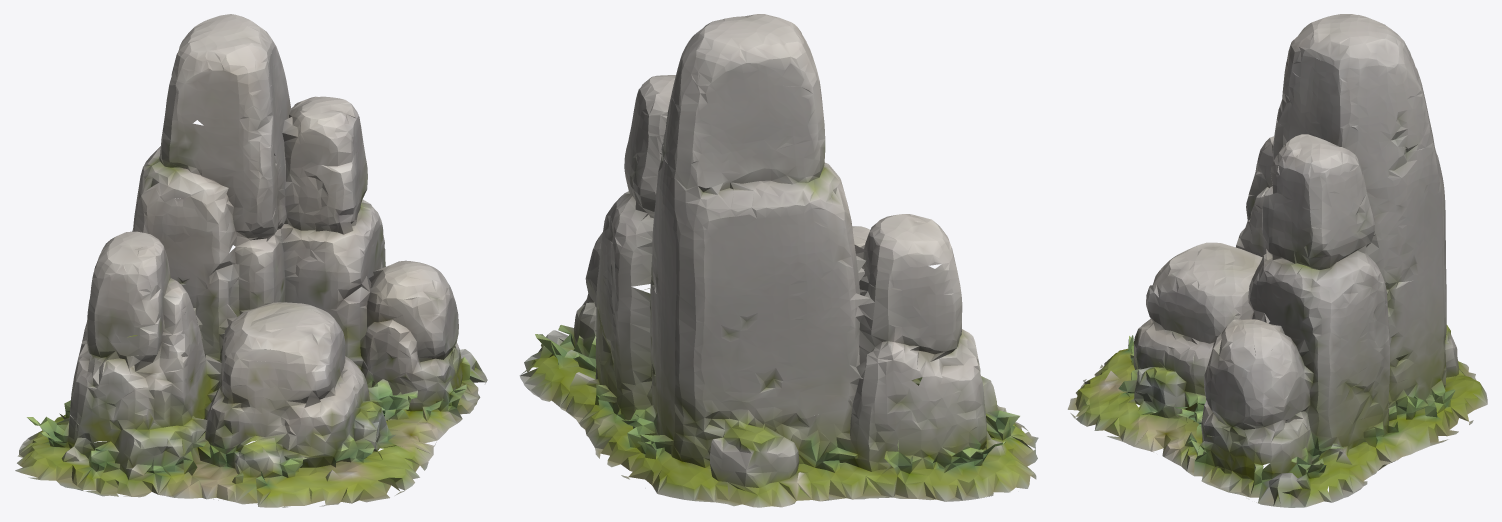
The model's file is world_rock_cluster_lod1.glb.
3 views of the same model, side by side, from view 1: azimuth 30°, elevation 25°; view 2: azimuth 150°, elevation 25°; view 3: azimuth 270°, elevation 25° (orthographic). The views are drawn at different scales.
Visible parts, largest first — view 1: world; view 2: world; view 3: world.
Part boxes in pixels (left/top/right/bottom): world: left=15, top=14, right=487, bottom=507; world: left=519, top=14, right=1038, bottom=507; world: left=1067, top=14, right=1487, bottom=507.
Bounding box in the file's own units: 1.9 × 1.48 × 1.51.
